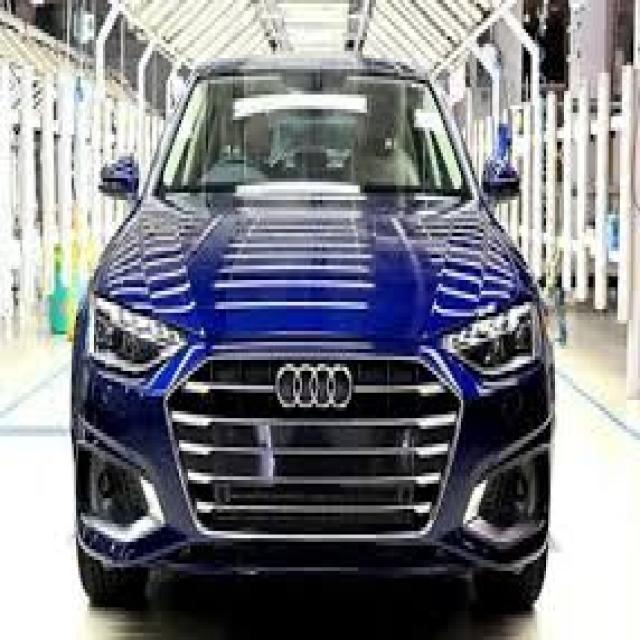SUV: (68, 46, 558, 630)
